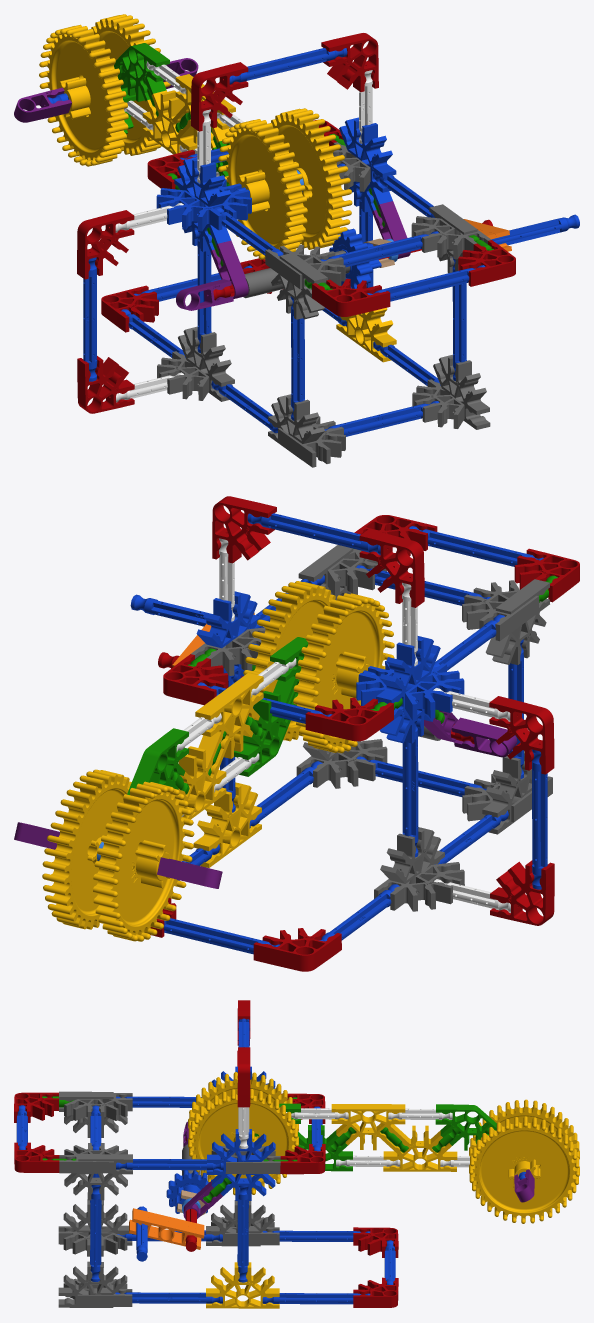
3 views of the same model, one above another, from view 1: azimuth 30°, elevation 25°; view 2: azimuth 150°, elevation 25°; view 3: azimuth 270°, elevation 25° (orthographic). The views are drawn at different scales.
Parts seen in each view (by area): view 1: P2_L19.006; view 2: P2_L19.006; view 3: P2_L19.006.
Boxes of the visible parts, x1,y1,x2,y2 form: P2_L19.006: (14,14,579,467); P2_L19.006: (14,496,579,971); P2_L19.006: (14,1000,579,1308).
Bounding box in the file's own units: 1.76 × 1.2 × 2.53.
